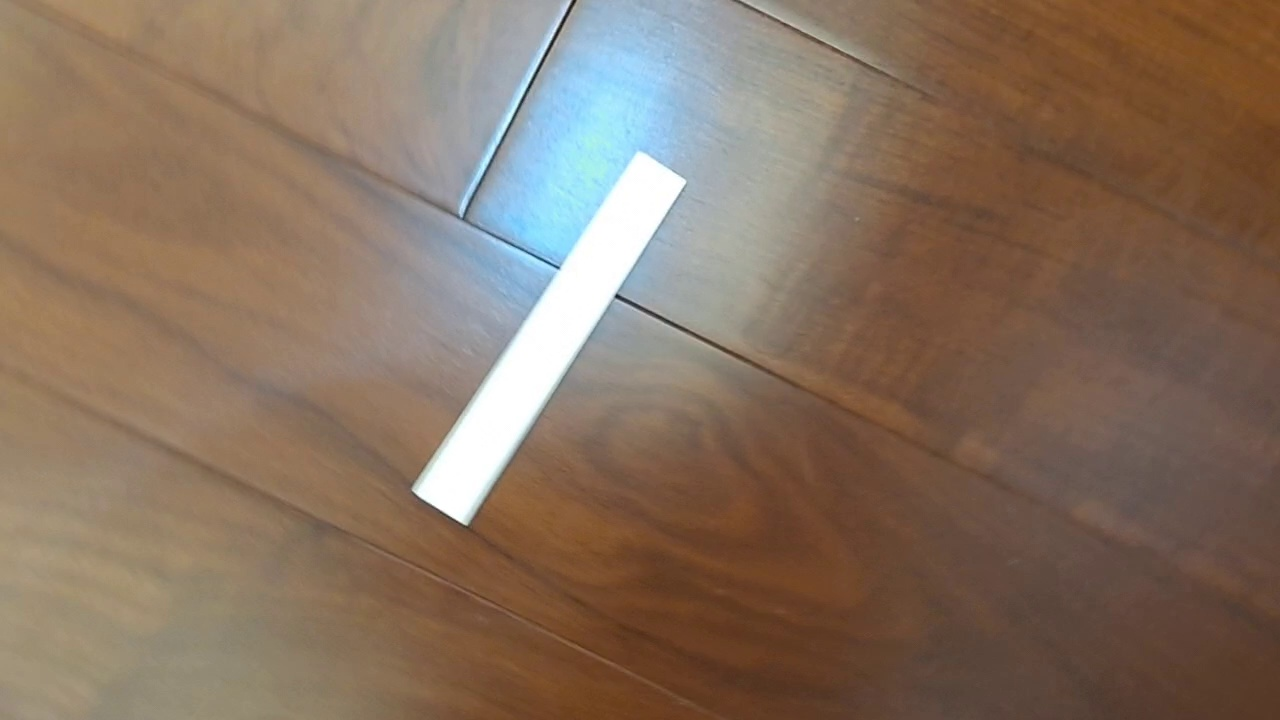ruler: (409, 147, 688, 530)
